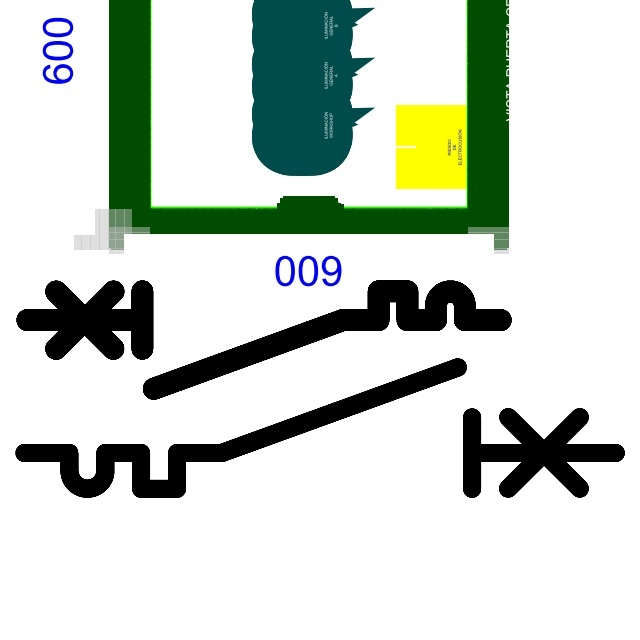interruptor_termomagnetico: (9, 352, 631, 504), (15, 279, 513, 401)
